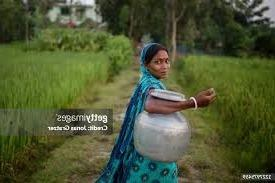Human: (118, 35, 208, 183)
